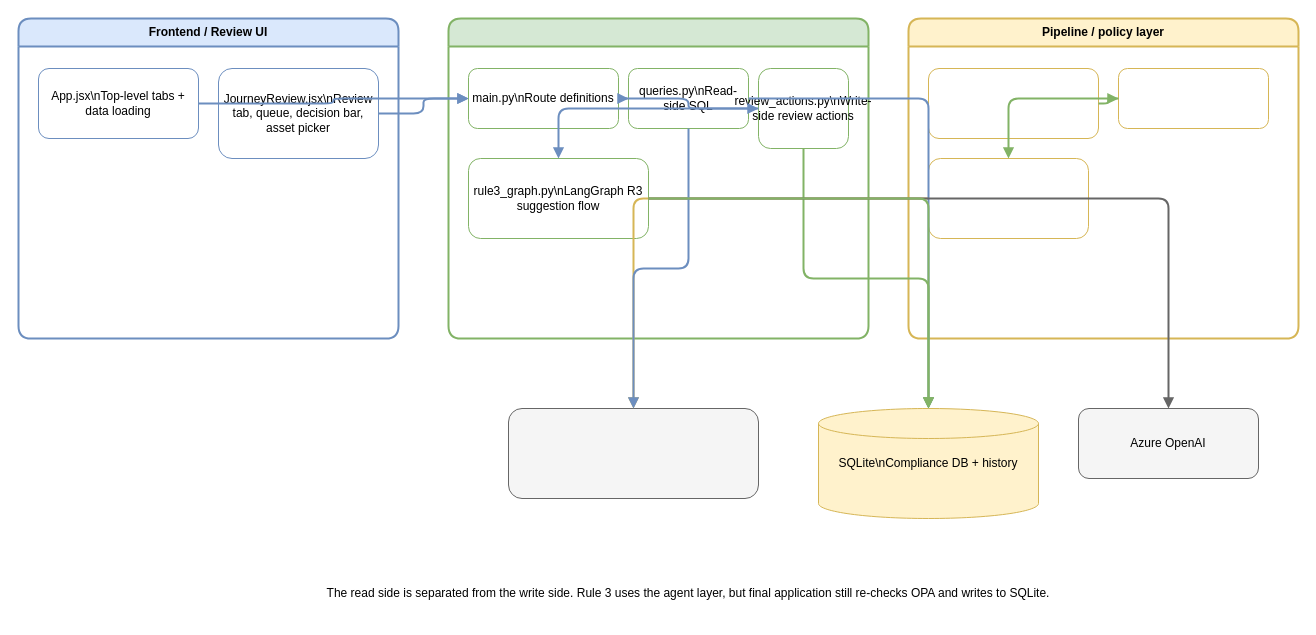
Some shapes in this 1316 by 635 pixel diagram are drawn without their labels. The box of each missing label's shape, as (x1, y1, x2, y2) in pixels:
compute_inputs.py\nBuilds loan inputs: (1118, 68, 1268, 128)
FastAPI API: (447, 17, 869, 339)
fx.py / country_currency.py\nCurrency and FX support: (928, 158, 1088, 238)
OPA + Rego policies\nDeterministic verdicts: (508, 408, 758, 498)
run_evaluation.py\nStreams CSV, batches OPA calls: (928, 68, 1098, 138)
